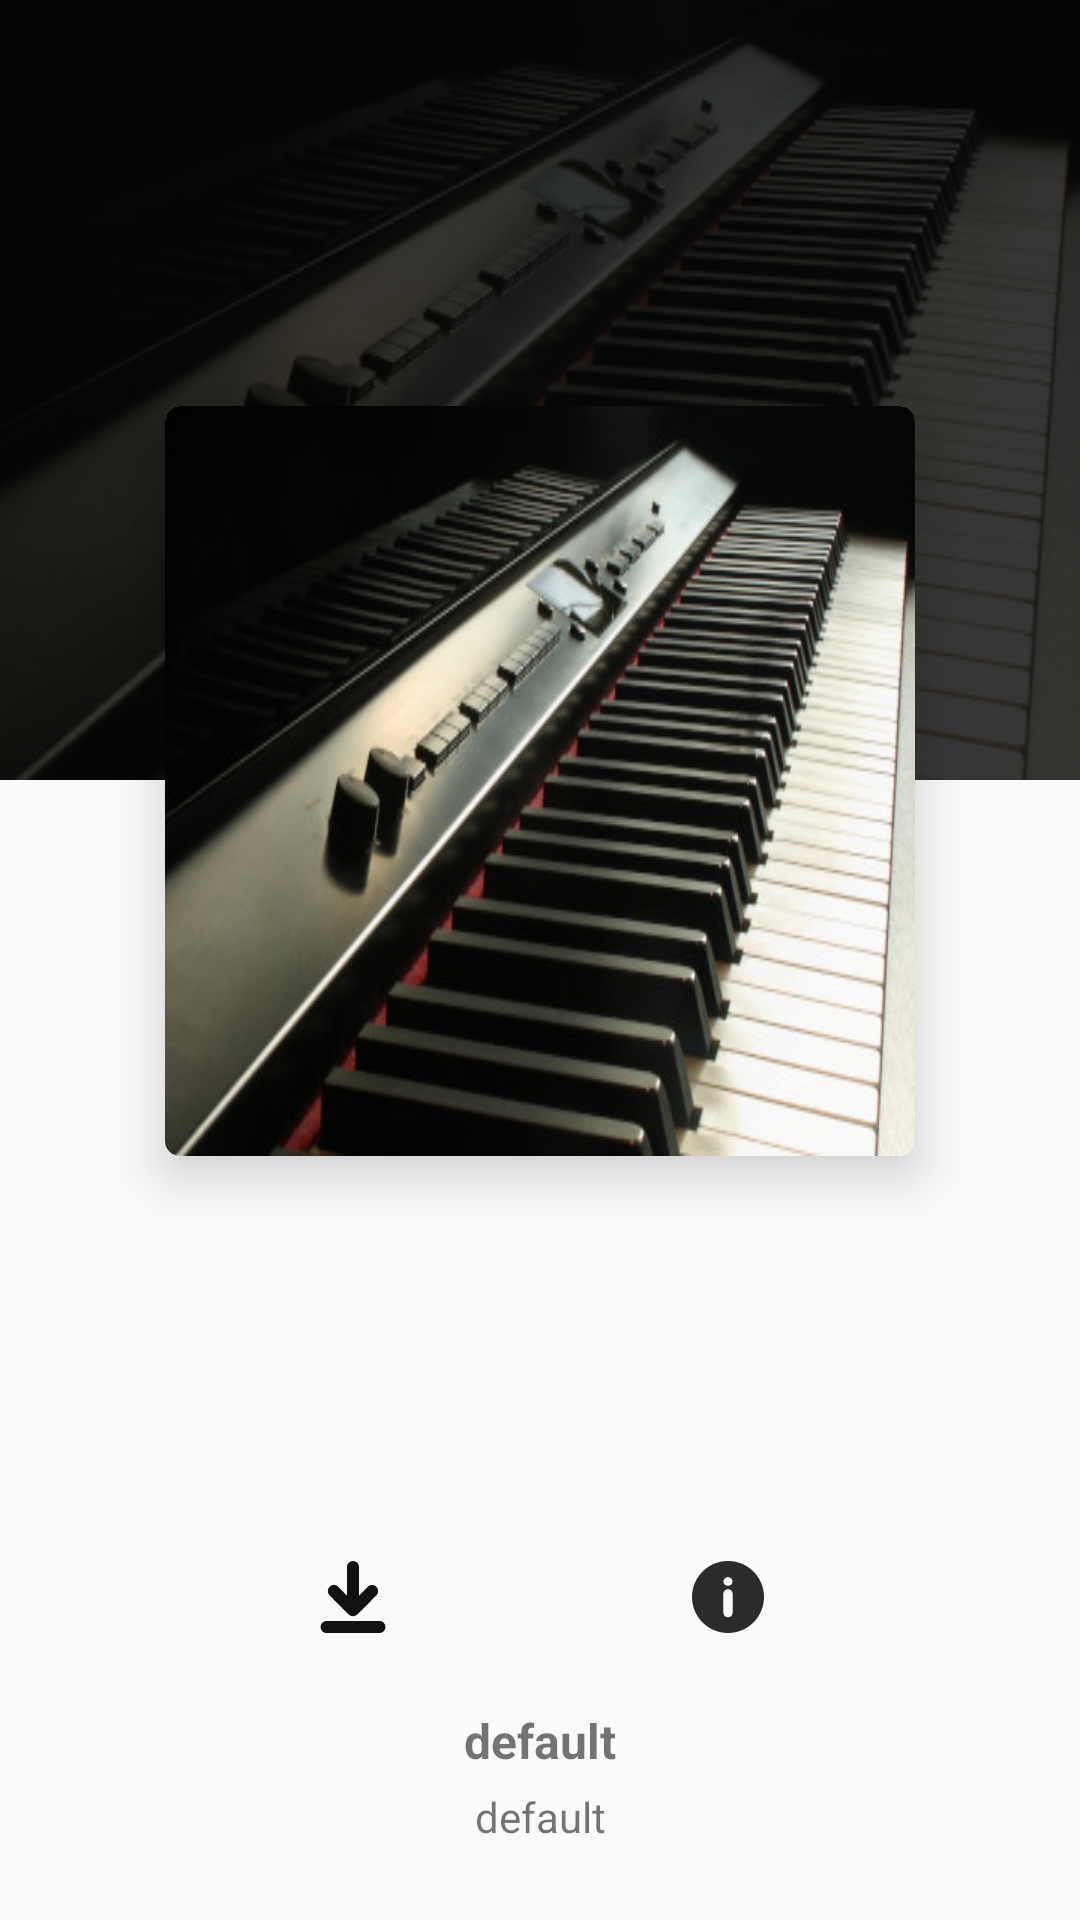

Icons on this 1080*1920 Android screen, each with its box as (x1, y1, x2, y2):
download: (320, 1561, 386, 1633)
info: (692, 1561, 764, 1633)
